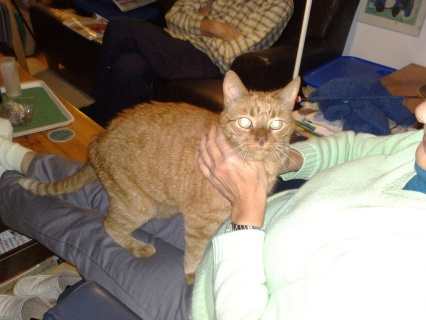Cat: (16, 67, 302, 287)
